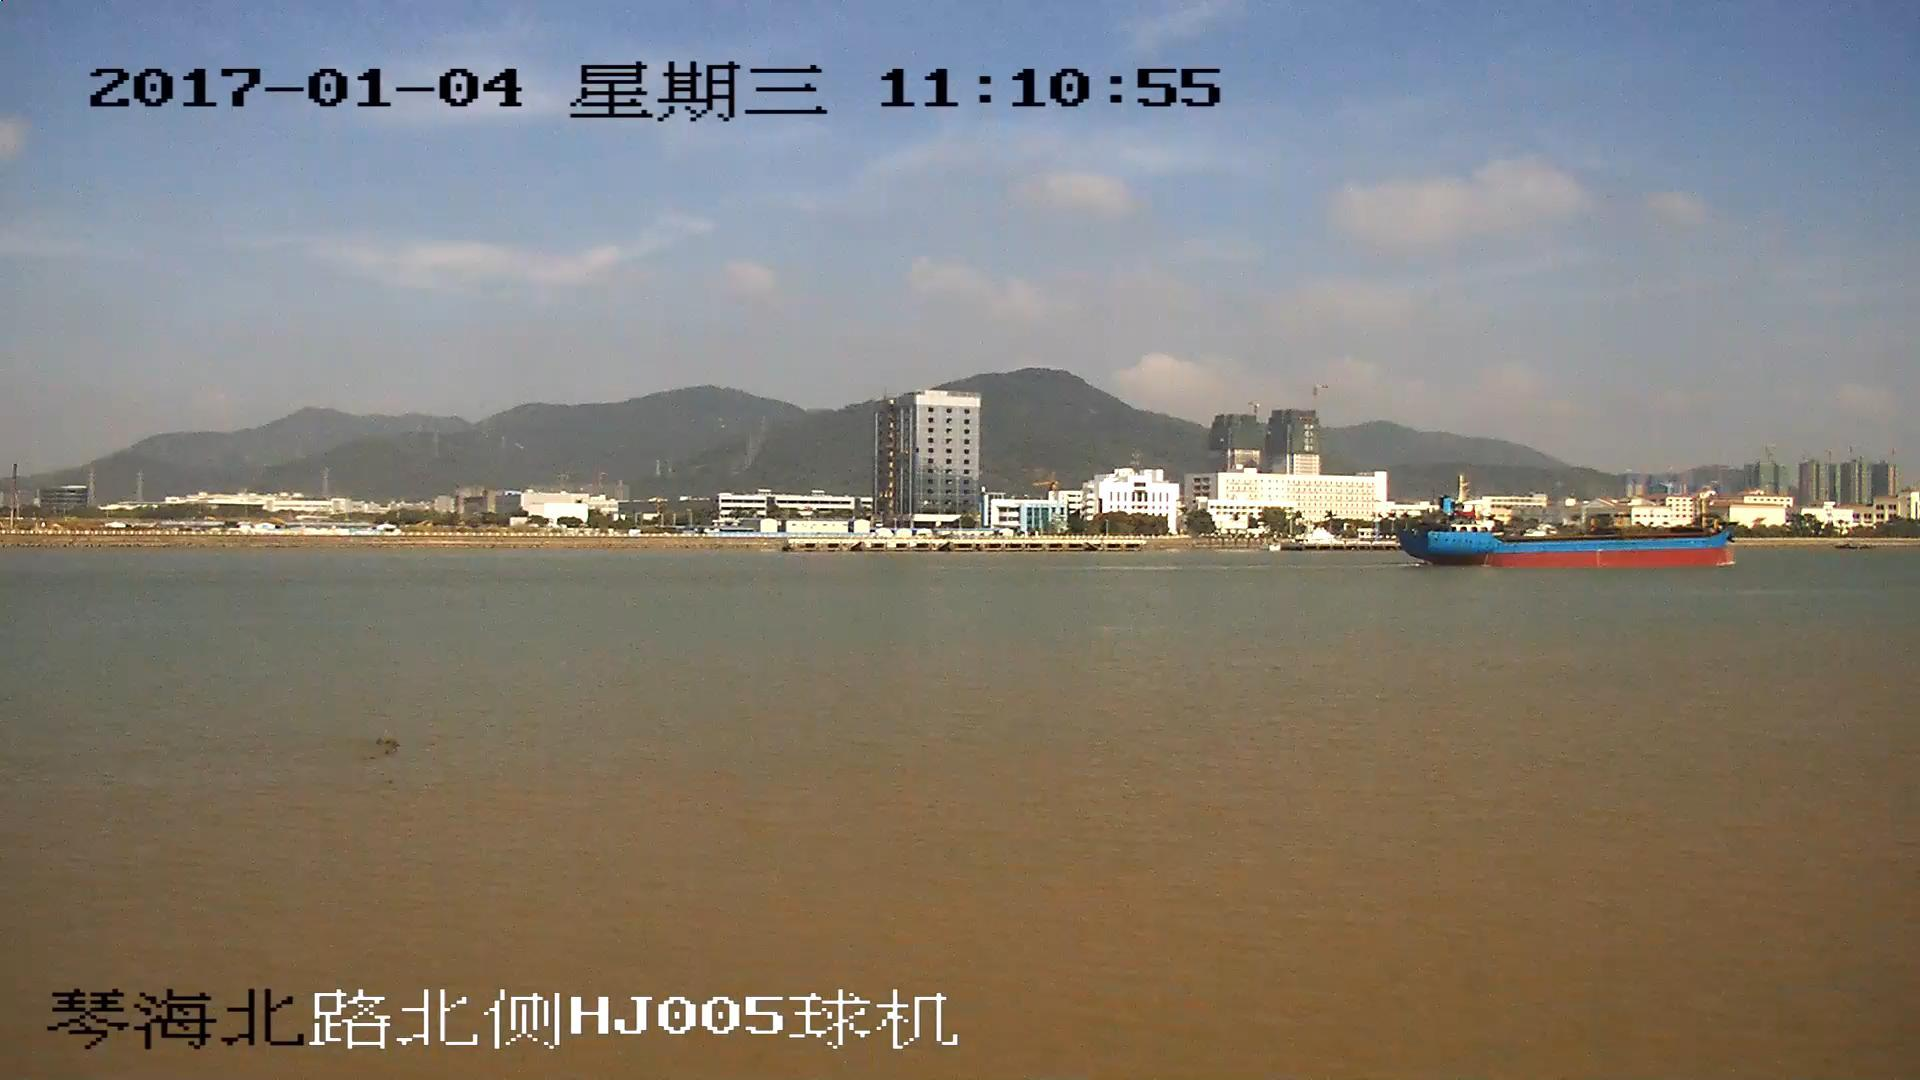Ship: (1398, 477, 1737, 571)
